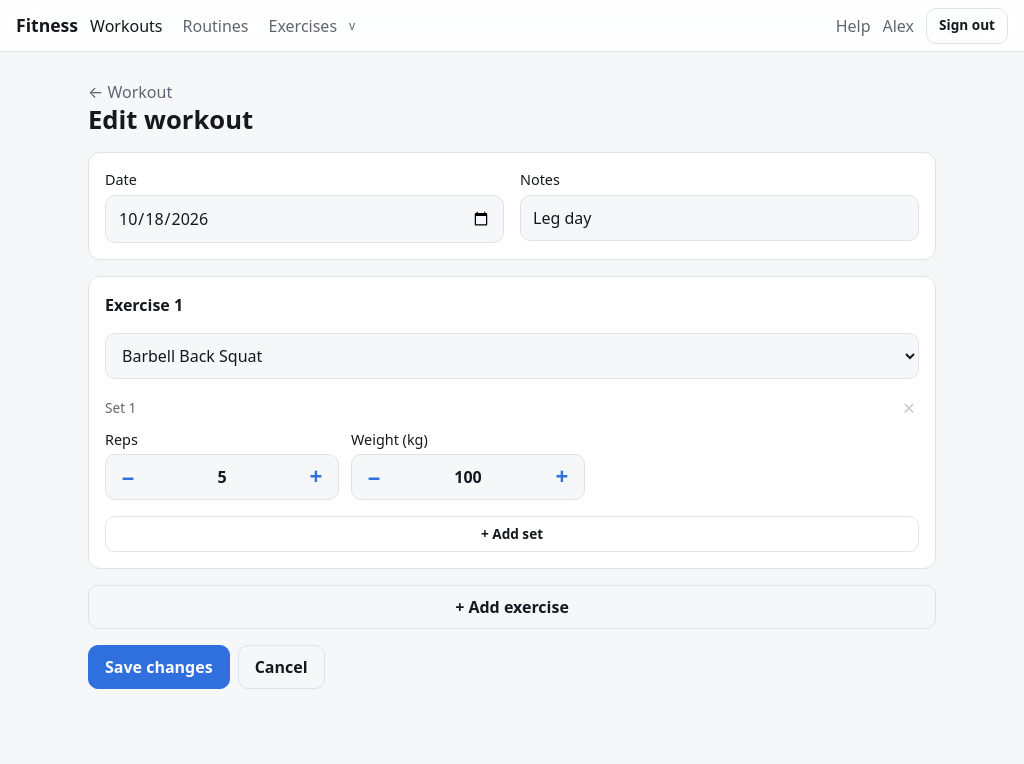
editing a workout › starts from the saved session and replaces it, keeping RPE and rest
Expected: the field labelled "Reps" holds "5", [150, 455, 294, 499]
Expected: the field labelled "Notes" holds "Leg day", [520, 195, 919, 241]
Replace the text in the field labelled "Weight (kg)" with "105" at (468, 477), box [396, 455, 540, 499]
Replace the text in the field labelled "Notes" with "Heavier" at (720, 218), box [520, 195, 919, 241]
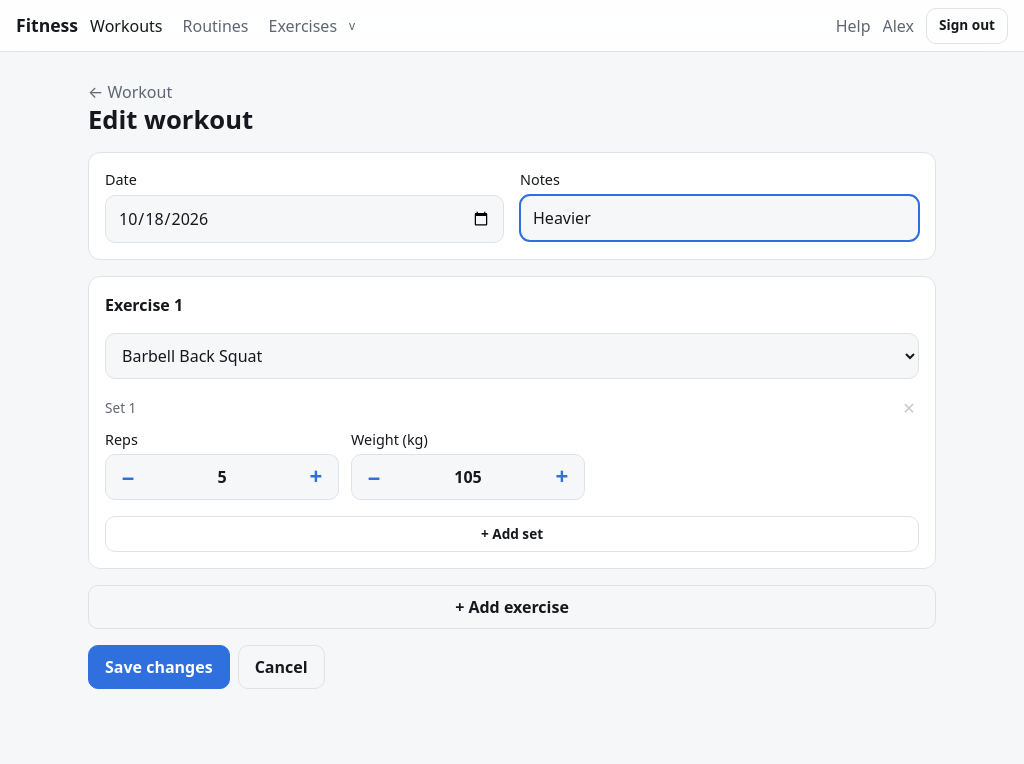
Click the button "+ Add exercise" at (512, 607), box [88, 585, 936, 629]
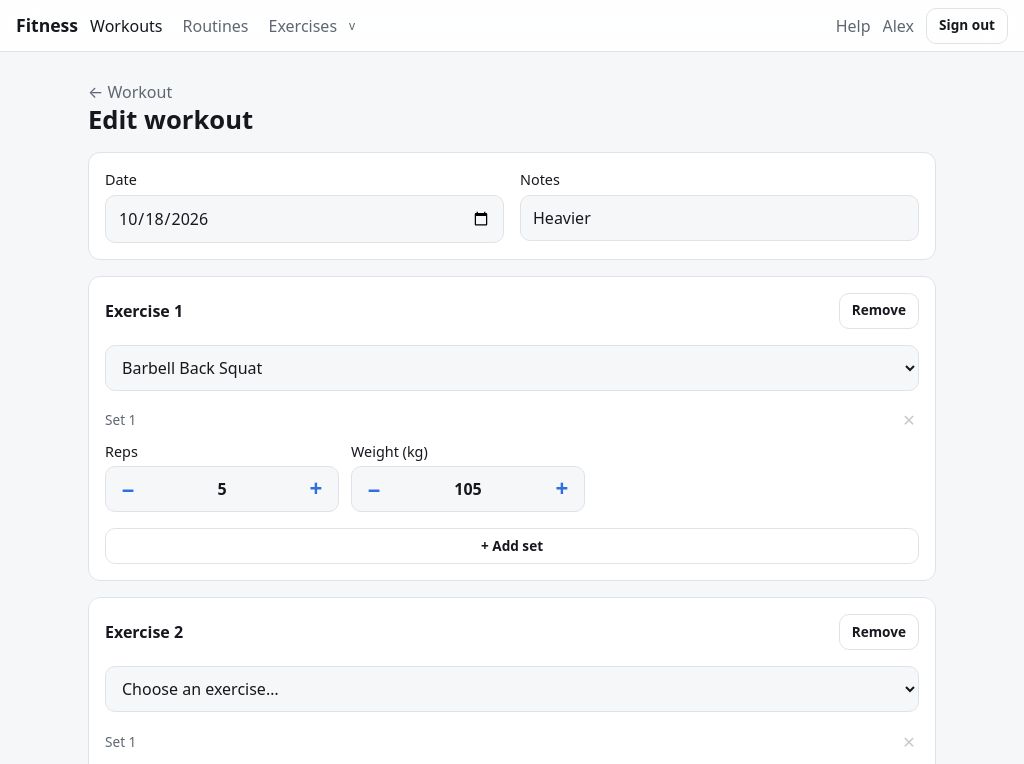
Select "Barbell Bench Press" in the 2nd dropdown named "Exercise" at (512, 689), box [105, 666, 919, 712]
(page scrolled)
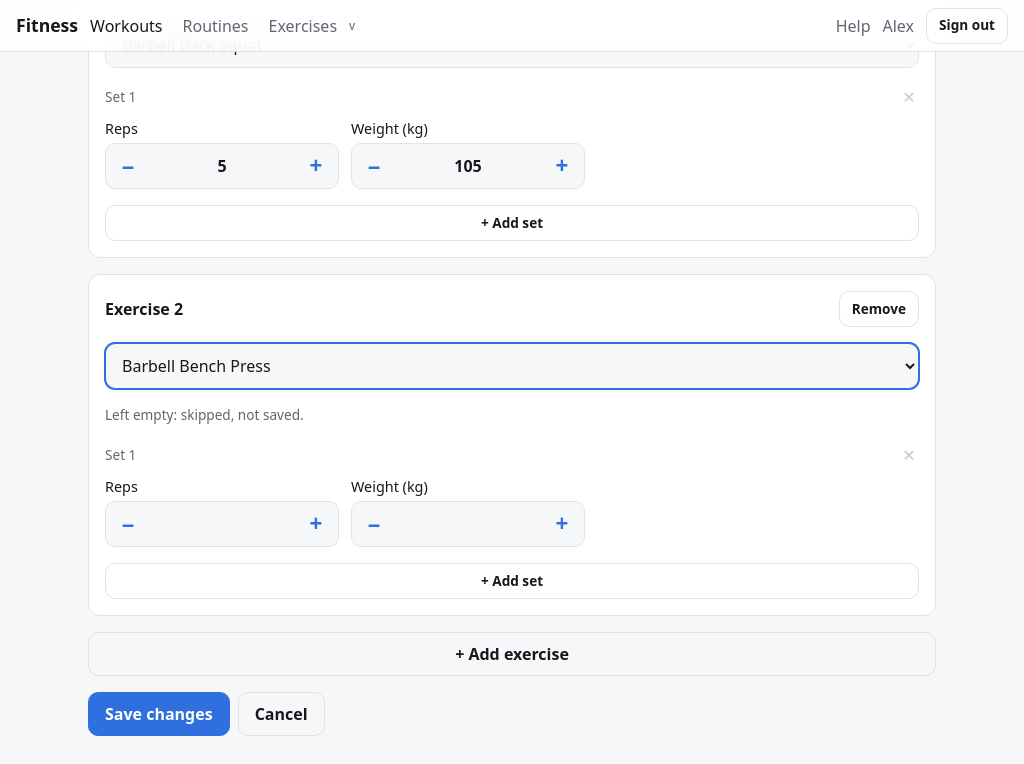
Type "8" into the field labelled "Reps" below "Left empty: skipped, not saved." at (222, 524), box [150, 502, 294, 546]
(page scrolled)
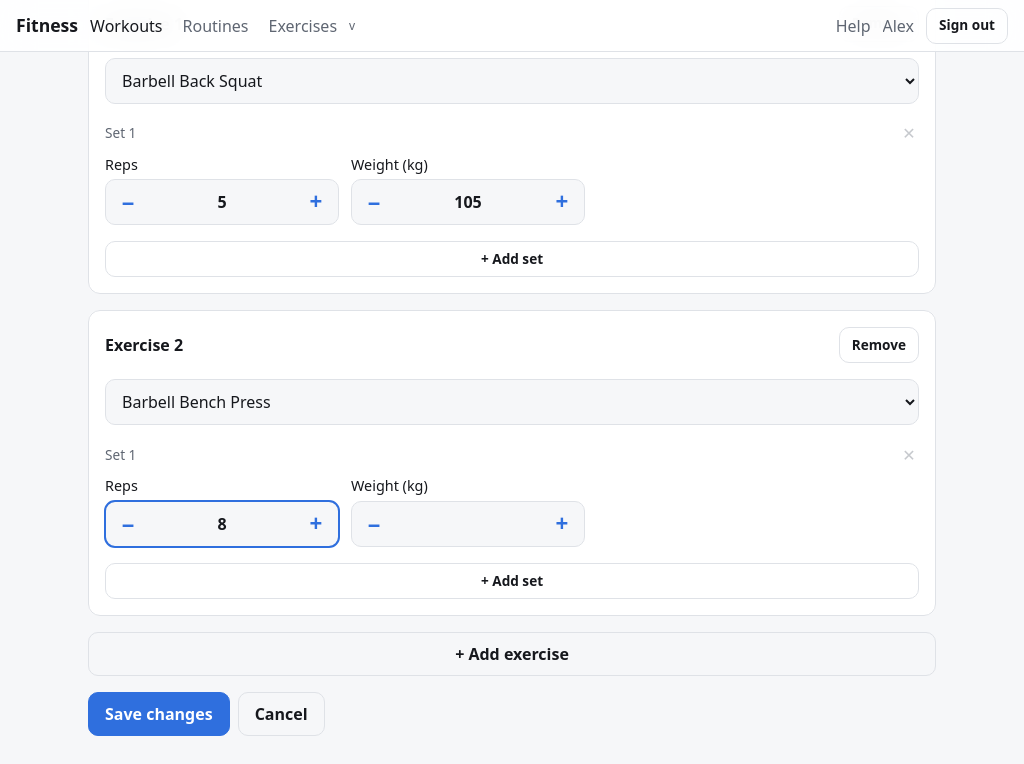
Type "60" into the 2nd field labelled "Weight (kg)" at (468, 524), box [396, 502, 540, 546]
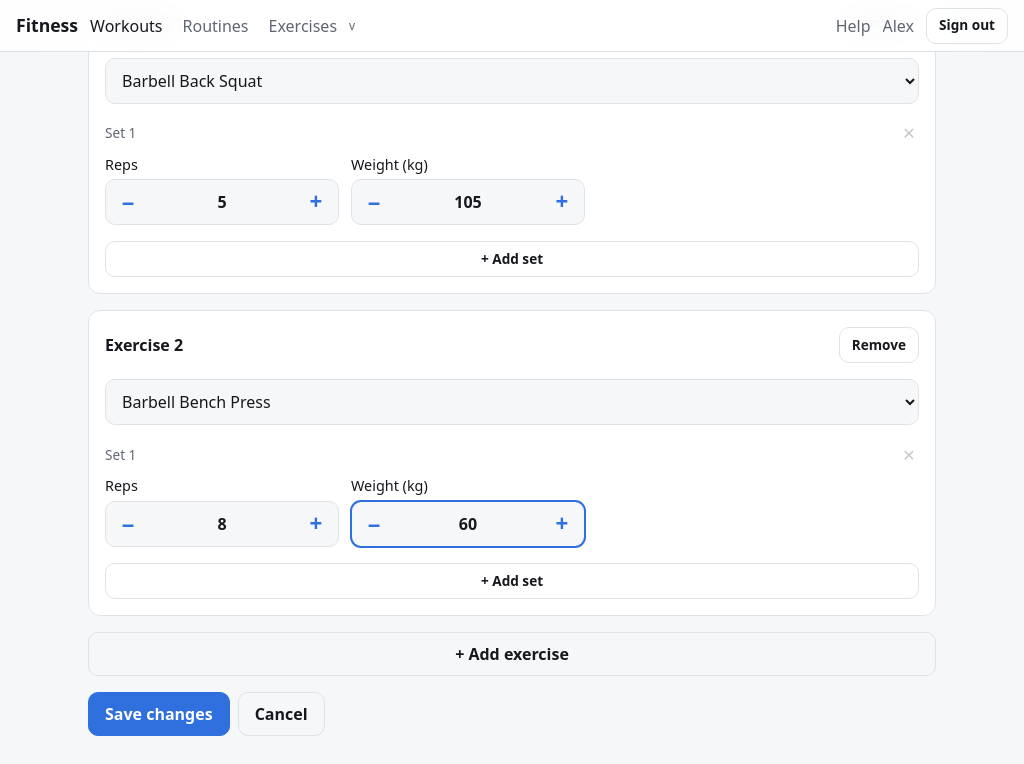
Click the button "Save changes" at (159, 714), box [88, 692, 230, 736]
(page scrolled)
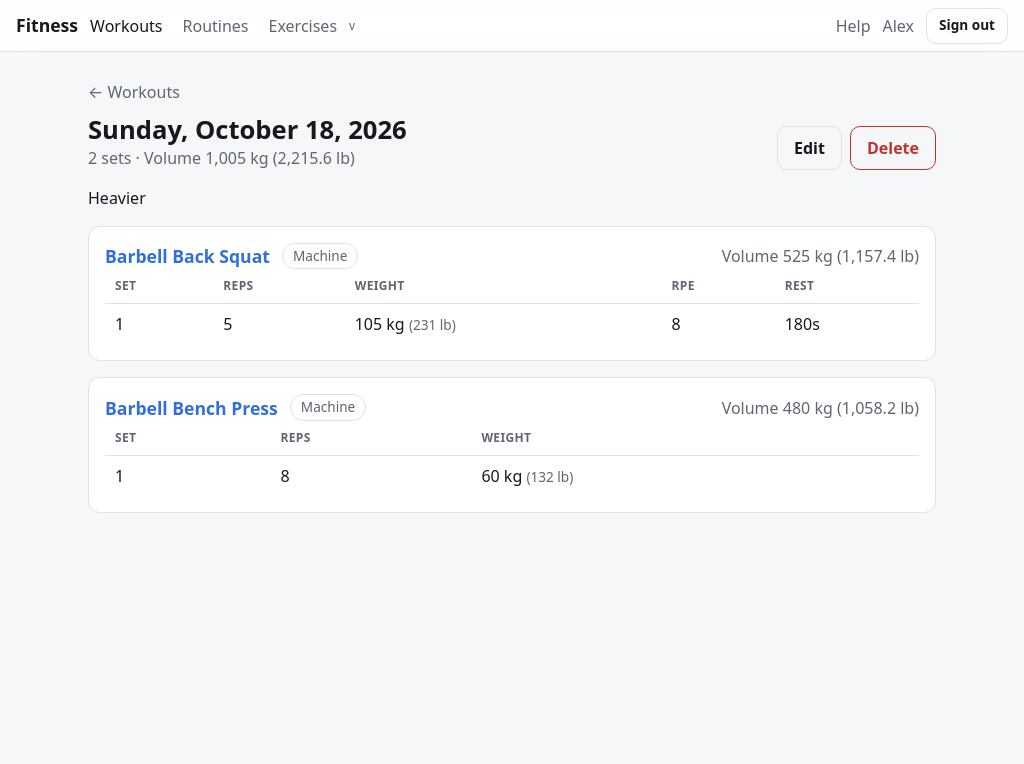
Expected: the text "Heavier" is shown, [88, 187, 146, 209]
